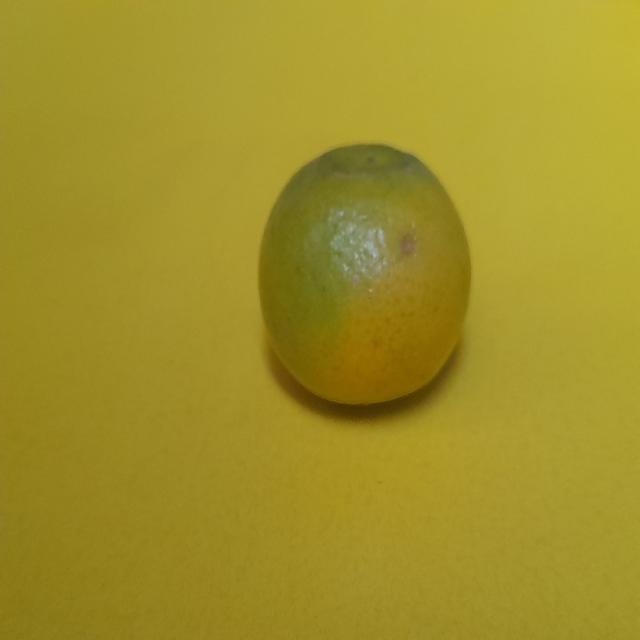greening: (244, 130, 482, 425)
